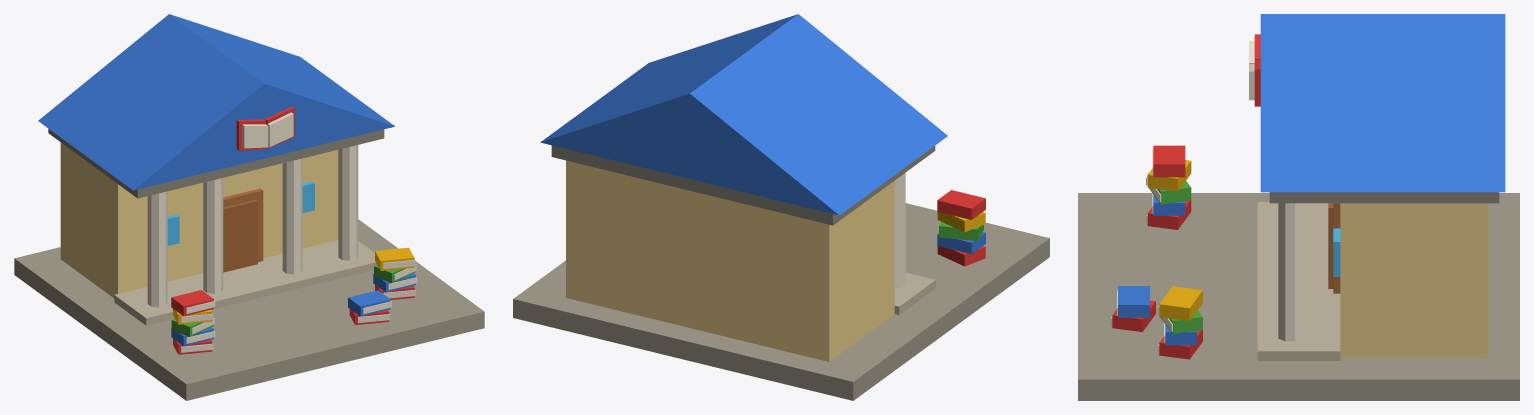
Rendered from library_t2_v1.glb.
The picture shows the model from 3 angles, left to right: view 1: azimuth 30°, elevation 25°; view 2: azimuth 150°, elevation 25°; view 3: azimuth 270°, elevation 25°; orthographic projection. The views are drawn at different scales.
Visible parts, largest first — view 1: library_t2_v1; view 2: library_t2_v1; view 3: library_t2_v1.
Boxes of the visible parts, box(x1,y1,x2,y2) form: library_t2_v1: box(14, 14, 484, 400); library_t2_v1: box(513, 14, 1049, 400); library_t2_v1: box(1078, 14, 1519, 400).
Size of the model in its own units: 0.75 by 0.55 by 0.75.
Materials: 1 (1 with a texture image).
